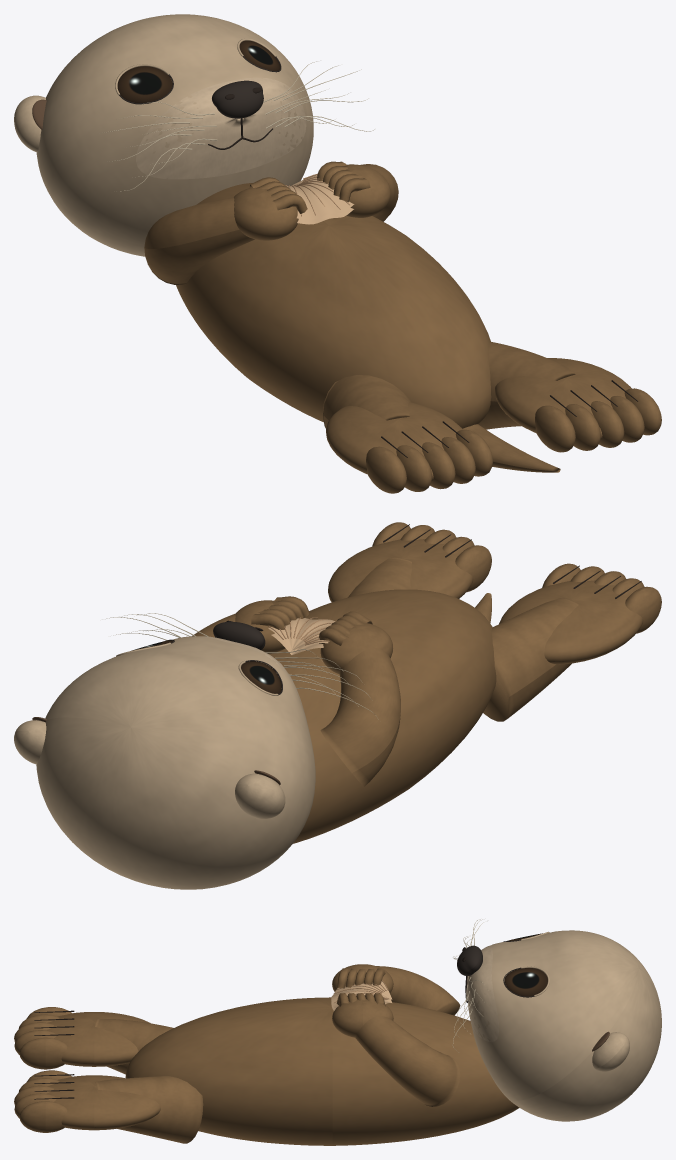
File: sea-otter-pup.glb
The picture shows the model from 3 angles, top to bottom: view 1: azimuth 30°, elevation 25°; view 2: azimuth 150°, elevation 25°; view 3: azimuth 270°, elevation 25°; orthographic projection. The views are drawn at different scales.
Parts seen in each view (by area): view 1: Furry face ears and sensory whiskers, Continuous sea otter torso, Hindpaw_L furry limb and five toes, Hindpaw_R furry limb and five toes, Forepaw_L furry limb and five toes, Forepaw_R furry limb and five toes, Small recessed corneal eye (×2), Held scallop shell, Short tapered sea otter tail; view 2: Furry face ears and sensory whiskers, Continuous sea otter torso, Hindpaw_L furry limb and five toes, Forepaw_L furry limb and five toes, Hindpaw_R furry limb and five toes, Forepaw_R furry limb and five toes, Held scallop shell, Small recessed corneal eye; view 3: Continuous sea otter torso, Furry face ears and sensory whiskers, Hindpaw_R furry limb and five toes, Hindpaw_L furry limb and five toes, Forepaw_R furry limb and five toes, Forepaw_L furry limb and five toes, Small recessed corneal eye, Held scallop shell.
Part boxes in pixels (box(x1,y1,x2,y2)): Furry face ears and sensory whiskers: box(14, 14, 374, 256); Continuous sea otter torso: box(176, 183, 491, 428); Hindpaw_L furry limb and five toes: box(322, 375, 492, 493); Hindpaw_R furry limb and five toes: box(478, 342, 661, 452); Forepaw_L furry limb and five toes: box(144, 177, 307, 284); Forepaw_R furry limb and five toes: box(317, 161, 398, 221); Small recessed corneal eye (×2): box(117, 40, 280, 102); Held scallop shell: box(285, 173, 354, 224); Short tapered sea otter tail: box(462, 424, 560, 472); Furry face ears and sensory whiskers: box(14, 613, 378, 889); Continuous sea otter torso: box(269, 589, 496, 843); Hindpaw_L furry limb and five toes: box(483, 563, 661, 721); Forepaw_L furry limb and five toes: box(319, 611, 400, 786); Hindpaw_R furry limb and five toes: box(328, 522, 491, 602); Forepaw_R furry limb and five toes: box(192, 596, 309, 653); Held scallop shell: box(268, 617, 335, 654); Small recessed corneal eye: box(241, 661, 281, 693); Continuous sea otter torso: box(125, 997, 519, 1145); Furry face ears and sensory whiskers: box(452, 919, 661, 1121); Hindpaw_R furry limb and five toes: box(14, 1070, 203, 1143); Hindpaw_L furry limb and five toes: box(14, 1007, 173, 1074); Forepaw_R furry limb and five toes: box(332, 993, 460, 1106); Forepaw_L furry limb and five toes: box(332, 964, 460, 1015); Small recessed corneal eye: box(504, 968, 547, 996); Held scallop shell: box(331, 980, 392, 1010).
Size of the model in its own units: 1.01 by 0.8488 by 2.59.
10 materials, 4 textured.
